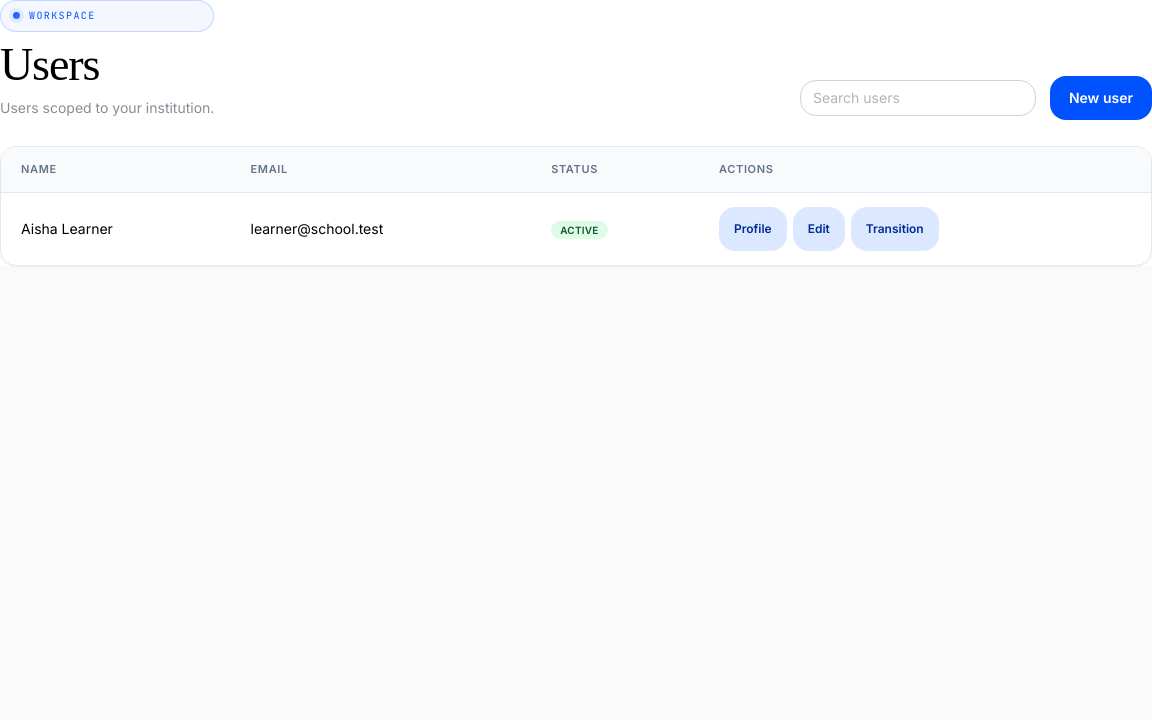
Users screen (REQ-FE-USR-01, REQ-FE-USR-05) › lists users, creates a user, and sources dropdowns from lookups
expect the text "Aisha Learner" is shown: met, box [1, 192, 230, 265]
Note: Create (dropdowns sourced from lookups)
Click the button "New user": (1101, 98) [1050, 76, 1151, 120]
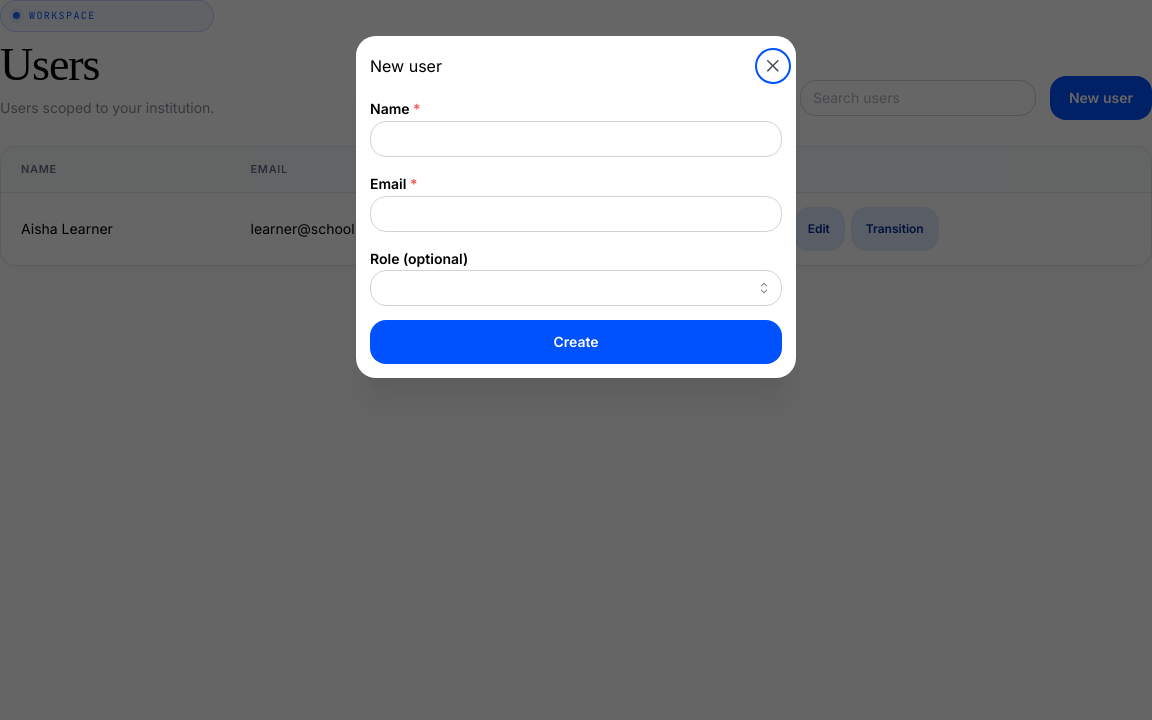
In the field labelled "Name": (576, 139) [370, 121, 782, 157], type "Ben Learner"
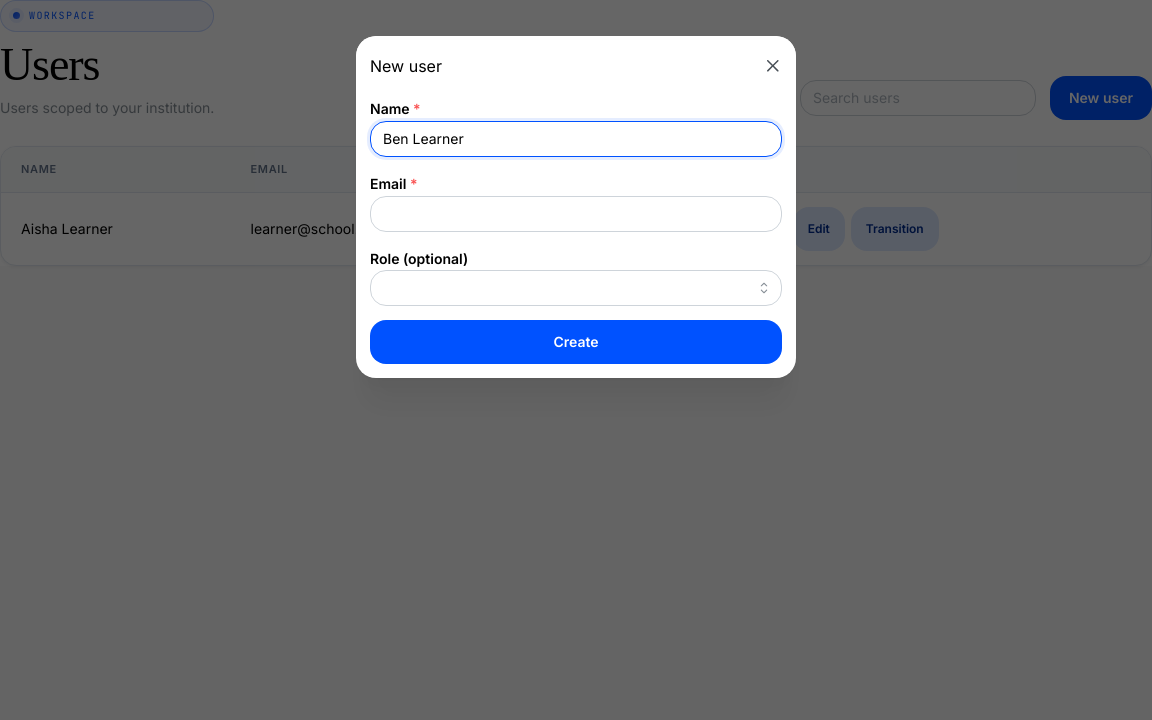
In the field labelled "Email": (576, 214) [370, 196, 782, 232], type "ben@school.test"
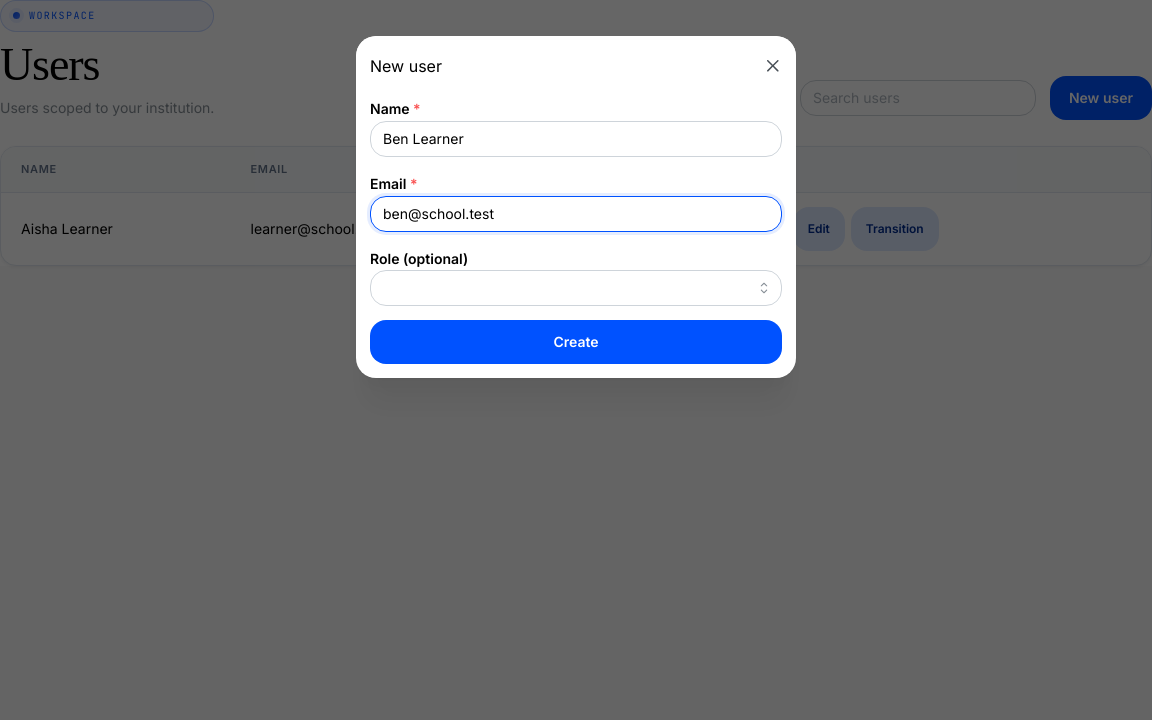
Click the button "Create": (576, 342) [370, 320, 782, 364]
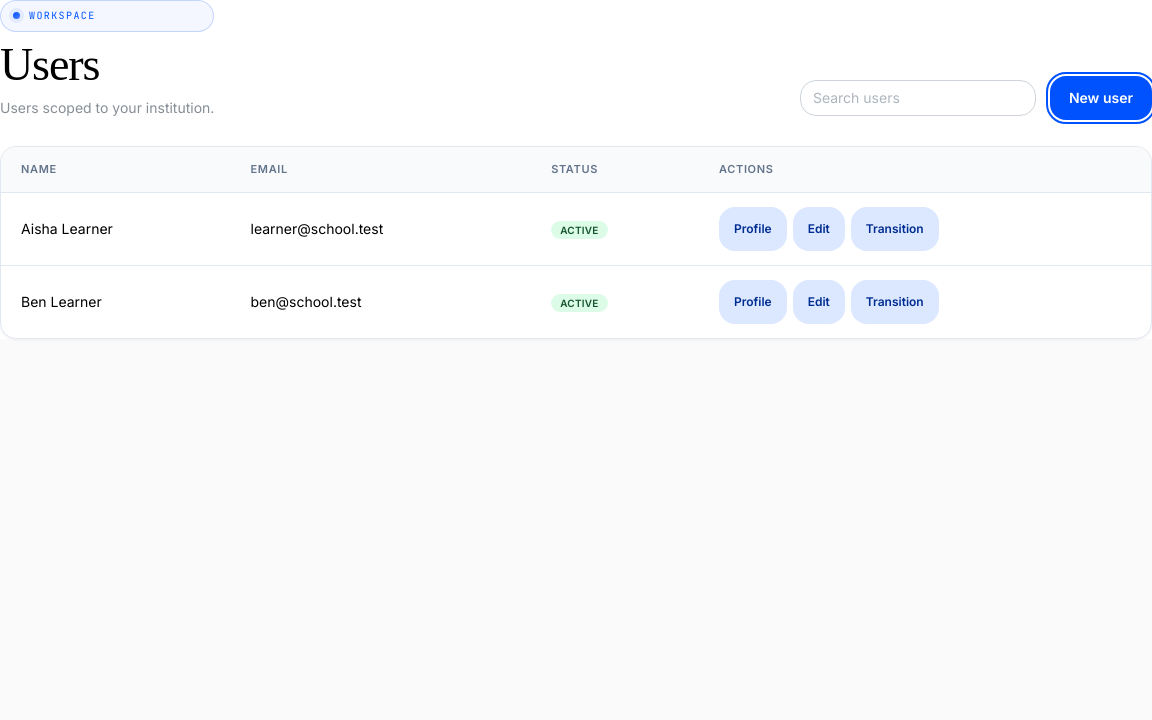
expect the text "Ben Learner" is shown: met, box [1, 265, 230, 338]
